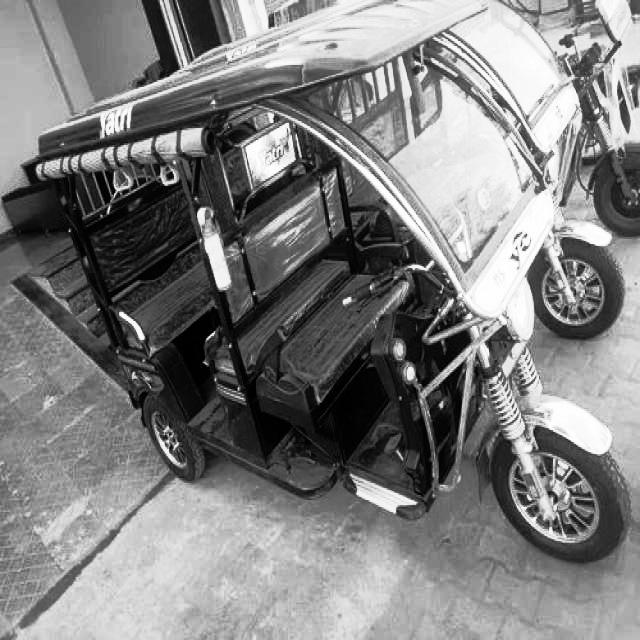Toto: (37, 15, 628, 571)
